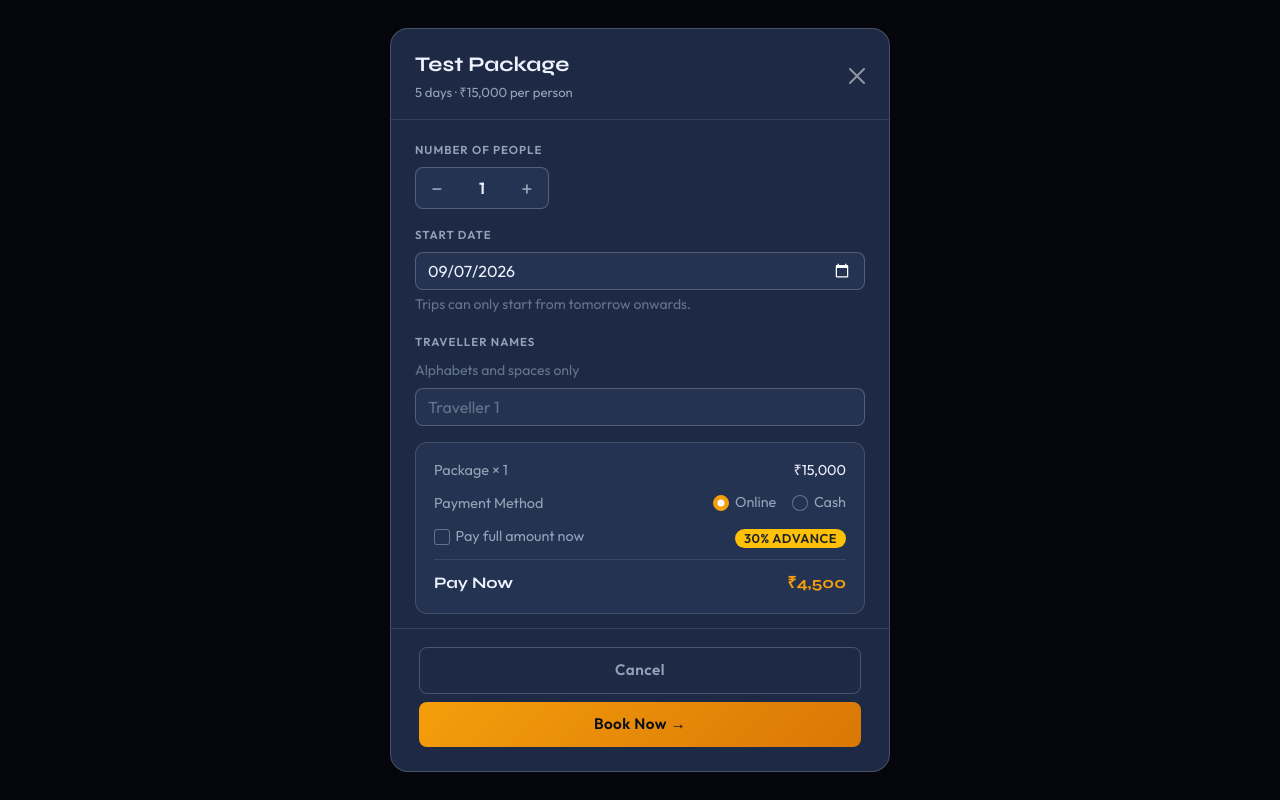
Test: BookingModal Component › shows error when traveller name is empty and Book Now clicked
This screenshot has width=1280, height=800.
Click the button "Book Now →" at (640, 725), box [419,702,861,747]
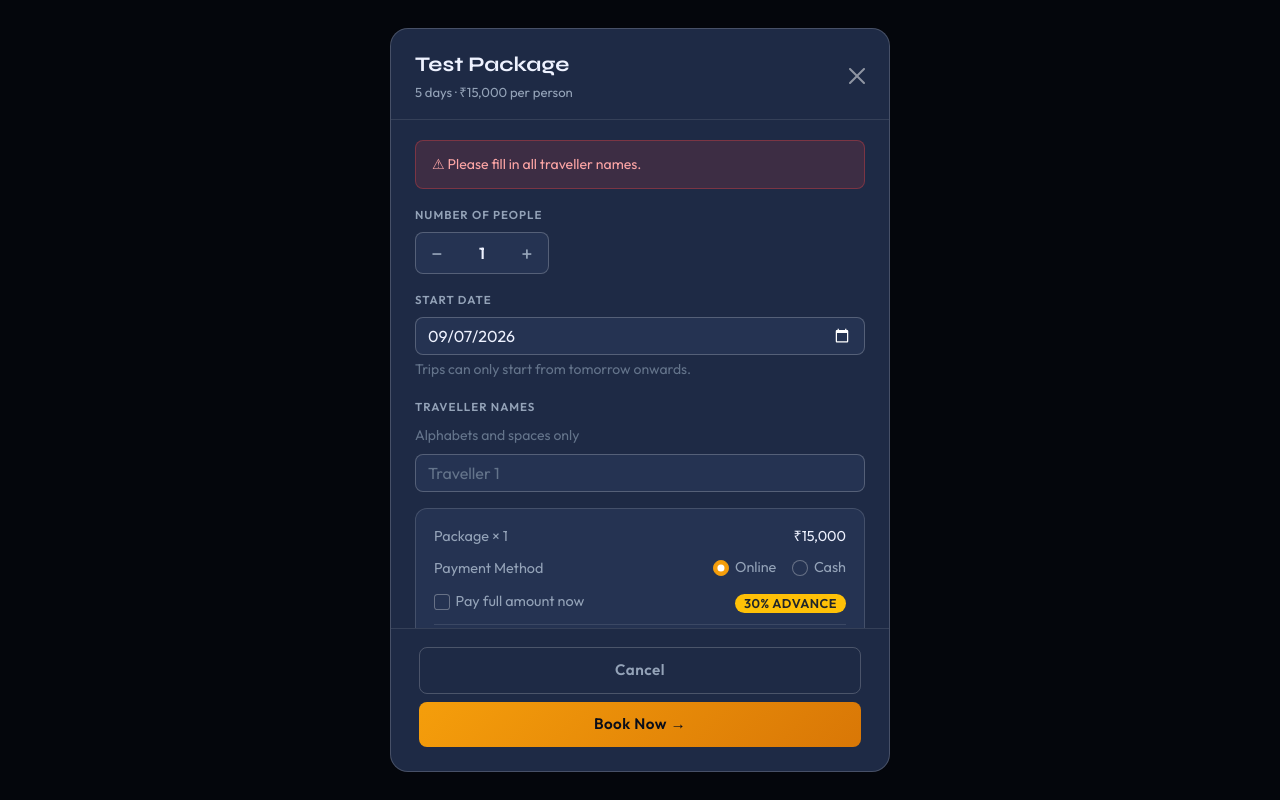
expect the text "⚠ Please fill in all traveller names." is shown: met, box [415,140,865,189]
